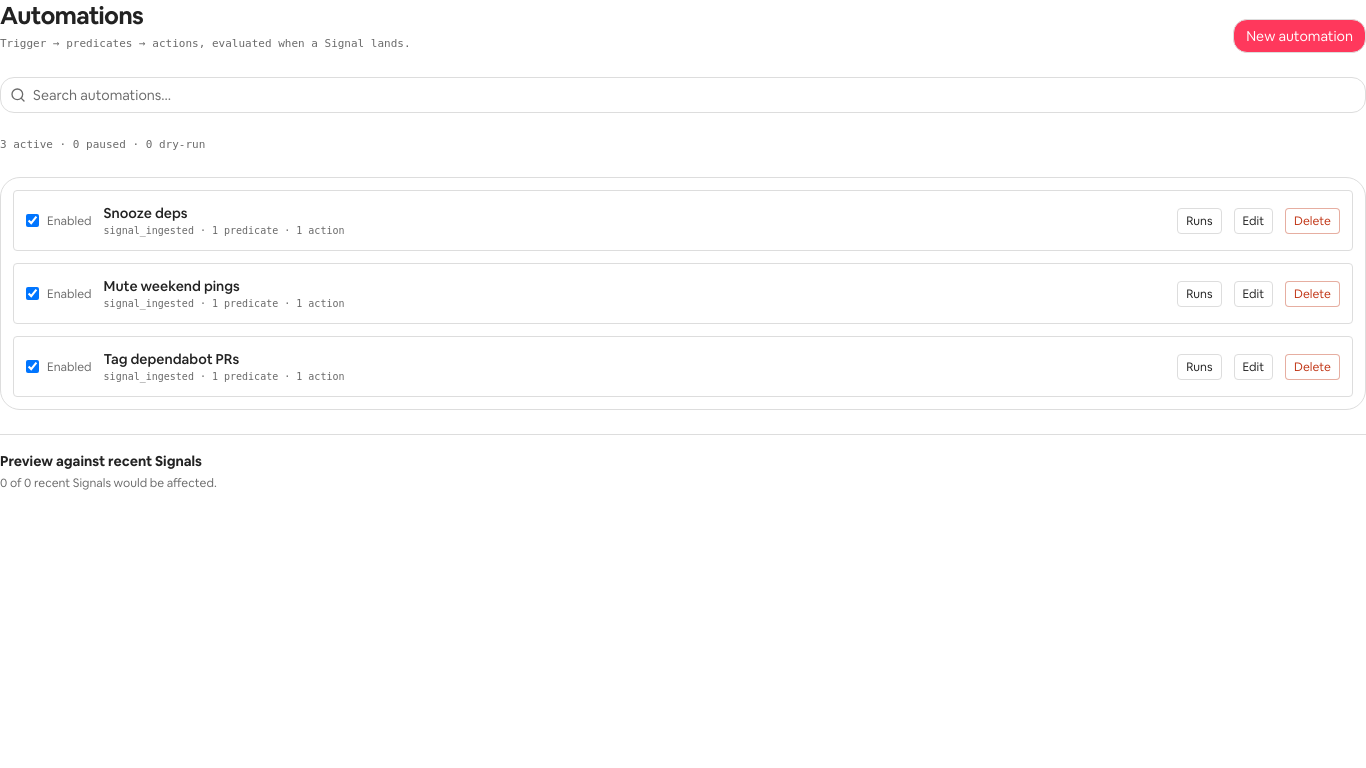
Scenario: AutomationsPanel delete-with-history-purge › Cancel closes the dialog and keeps the automation
The width and height of the screenshot is (1366, 768).
Click the button with aria-label "Delete Snooze deps" at (1313, 220), box x1=1285 y1=208 x2=1340 y2=234
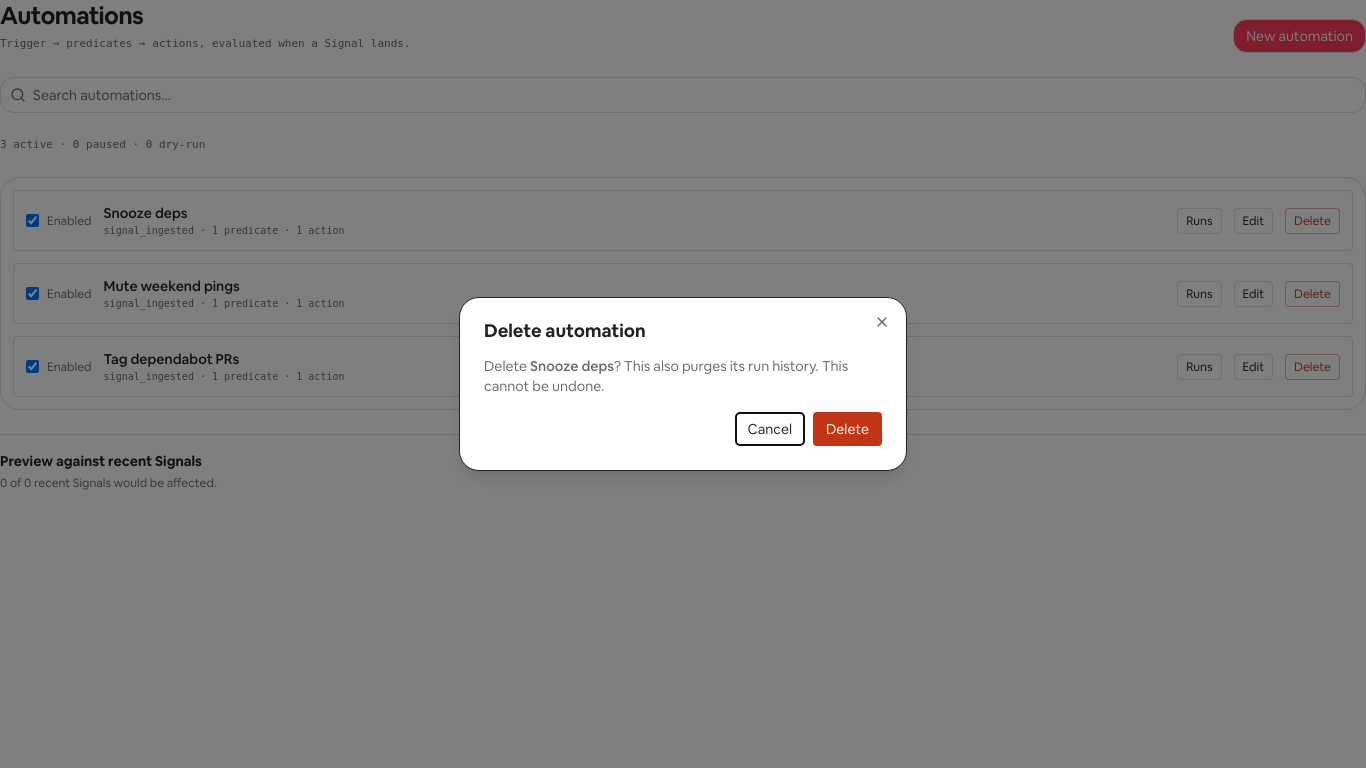
Now the heading "Delete automation" is shown, box x1=484 y1=319 x2=646 y2=342
Click the button "Cancel" at (770, 429), box x1=734 y1=412 x2=805 y2=446
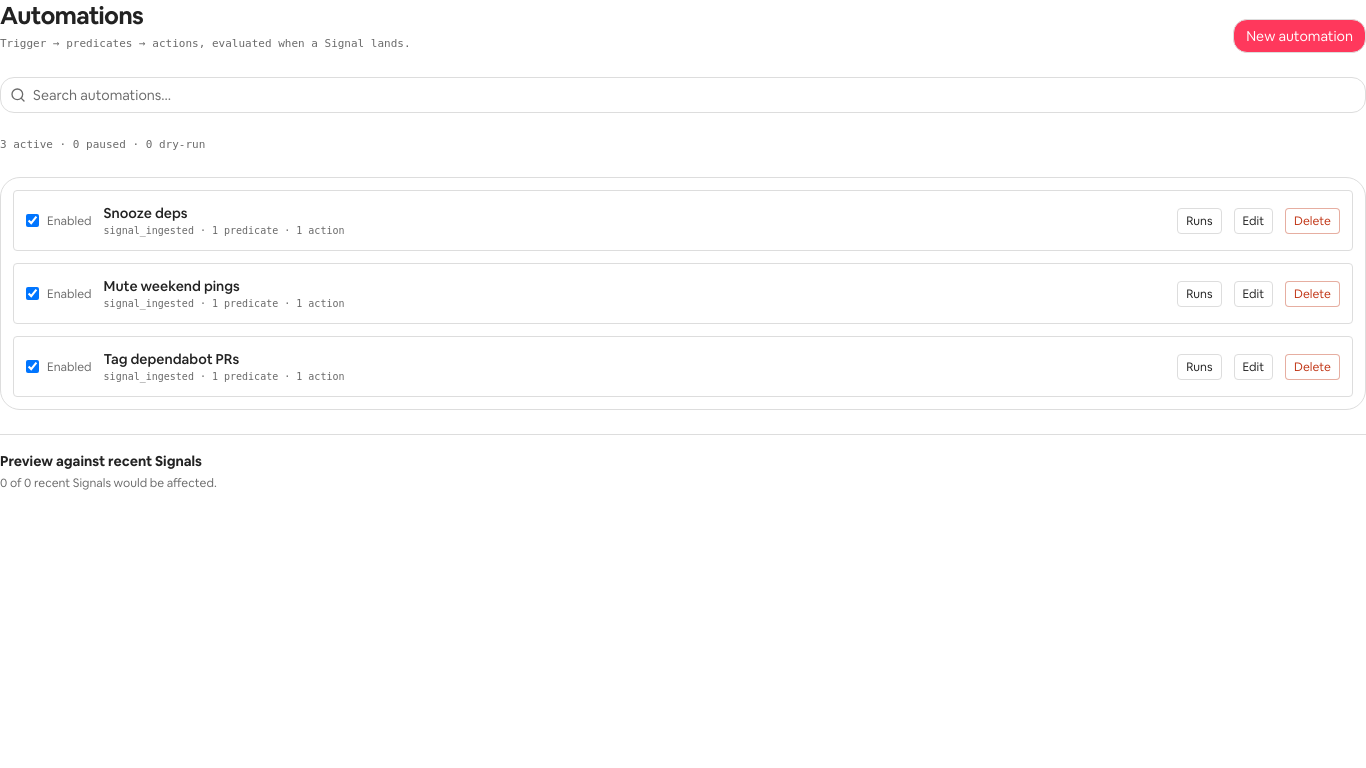
Expected: the text "Snooze deps" is shown, x1=104 y1=204 x2=188 y2=222
Now the heading "Delete automation" is gone
